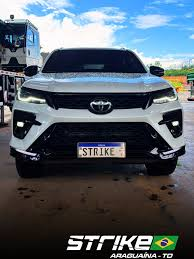car: (8, 46, 185, 182)
car_plate: (77, 141, 126, 159)
